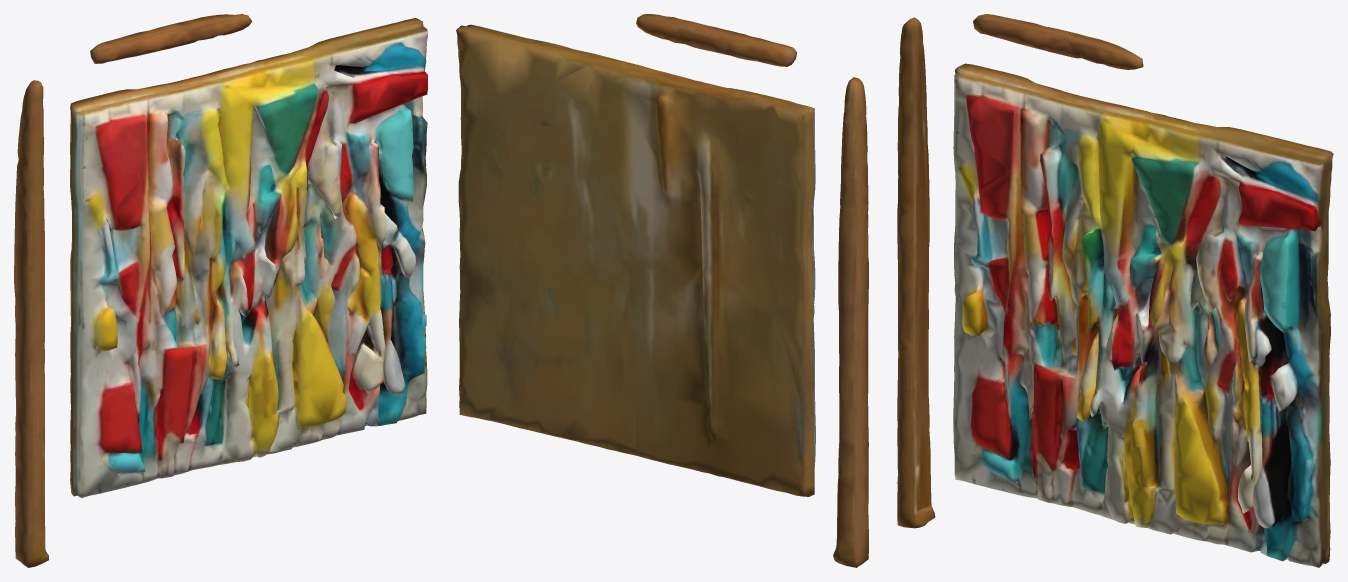
Rendered from 18_abstract_painting.glb.
3 renders of one model, left to right at view 1: azimuth 30°, elevation 25°; view 2: azimuth 150°, elevation 25°; view 3: azimuth 330°, elevation 25°, orthographic. The views are drawn at different scales.
Parts seen in each view (by area): view 1: geometry_0; view 2: geometry_0; view 3: geometry_0.
Part boxes in pixels (left/top/right/bottom): geometry_0: left=14, top=14, right=427, bottom=567; geometry_0: left=456, top=14, right=868, bottom=567; geometry_0: left=897, top=14, right=1333, bottom=567.
Size of the model in its own units: 1.61 by 1.9 by 0.1886.
1 material, 1 textured.
